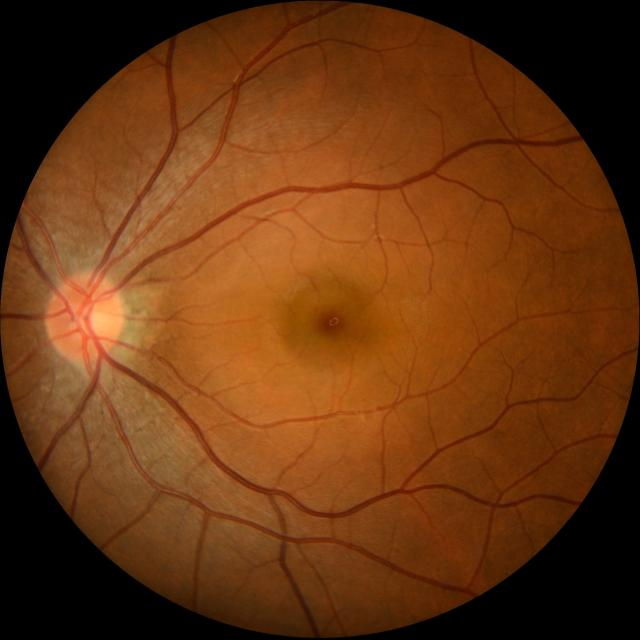OC: (76, 303, 109, 338)
OD: (46, 274, 123, 362)
